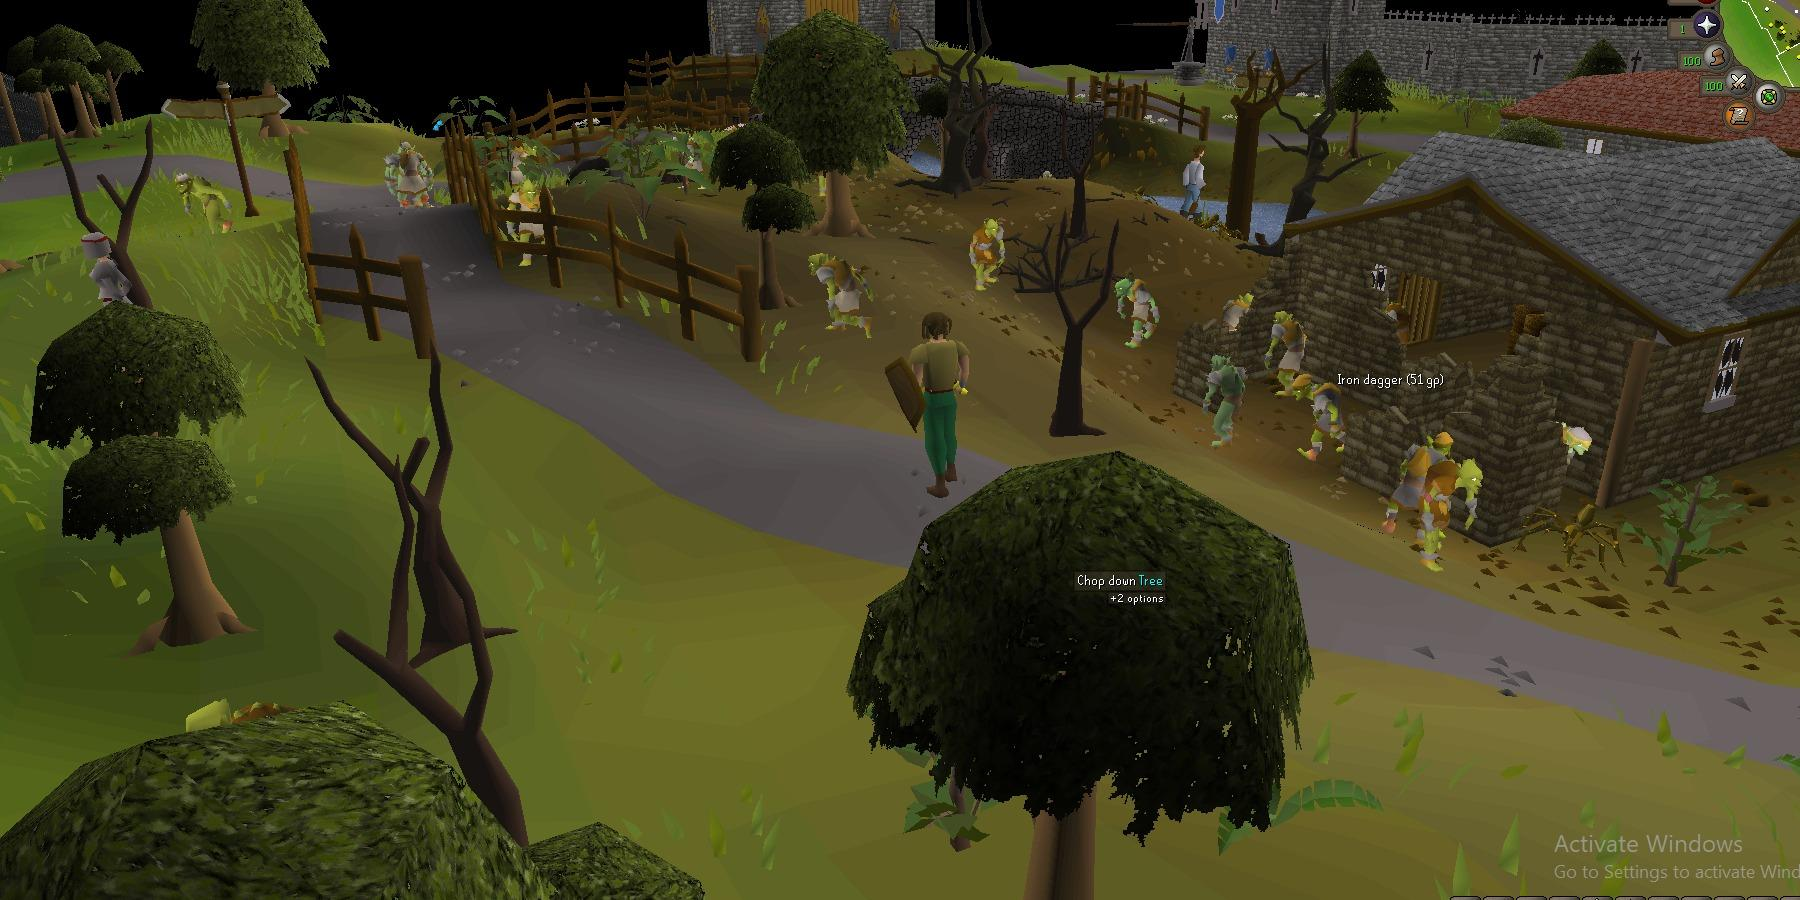goblin: (1381, 432, 1454, 535), (1421, 459, 1483, 574), (808, 254, 876, 338), (505, 180, 560, 267), (1293, 374, 1347, 461), (1202, 354, 1248, 449), (1263, 311, 1308, 397), (1114, 267, 1161, 349), (174, 174, 233, 234), (385, 143, 436, 208), (970, 219, 1006, 290), (672, 137, 708, 191), (1554, 422, 1596, 466), (1221, 293, 1254, 331), (509, 143, 538, 184)
